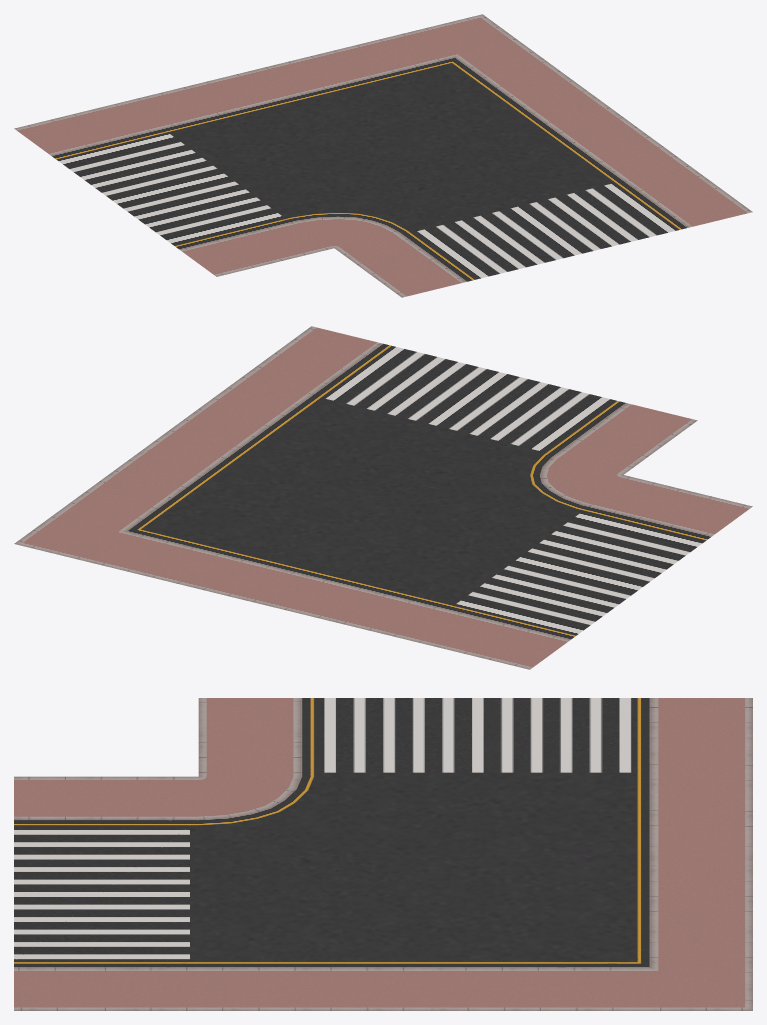
Rendered from jy_daolu03.FBX.
3 views of the same model, one above another, from view 1: azimuth 30°, elevation 25°; view 2: azimuth 150°, elevation 25°; view 3: azimuth 270°, elevation 25° (orthographic). The views are drawn at different scales.
Visible parts, largest first — view 1: jy_daolu03; view 2: jy_daolu03; view 3: jy_daolu03.
Boxes of the visible parts, <box> form: jy_daolu03: <box>14,14,752,297</box>; jy_daolu03: <box>14,326,752,669</box>; jy_daolu03: <box>14,698,752,1010</box>.
Bounding box in the file's own units: 3482 × 0.000519 × 3478.
